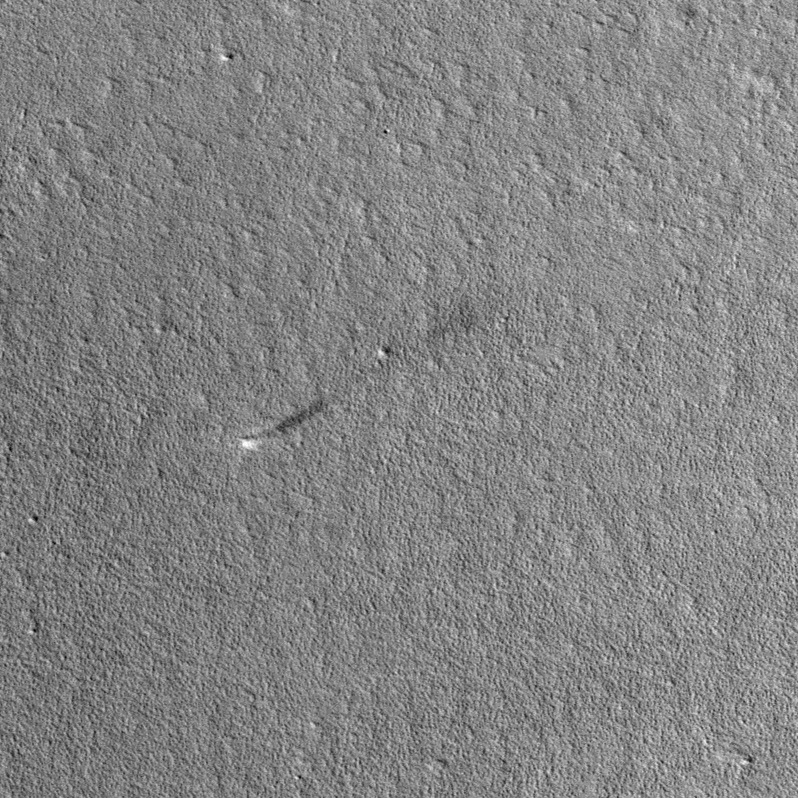dust_devil: (235, 393, 331, 456)
